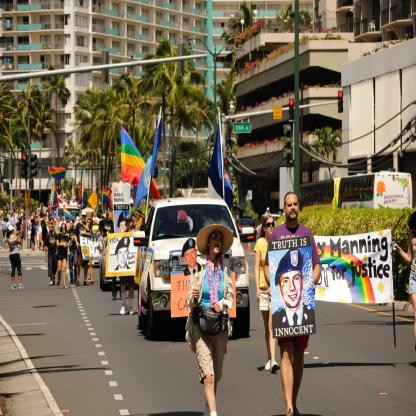Car: (134, 194, 261, 339), (99, 239, 135, 292), (258, 213, 283, 231), (237, 217, 257, 236)
